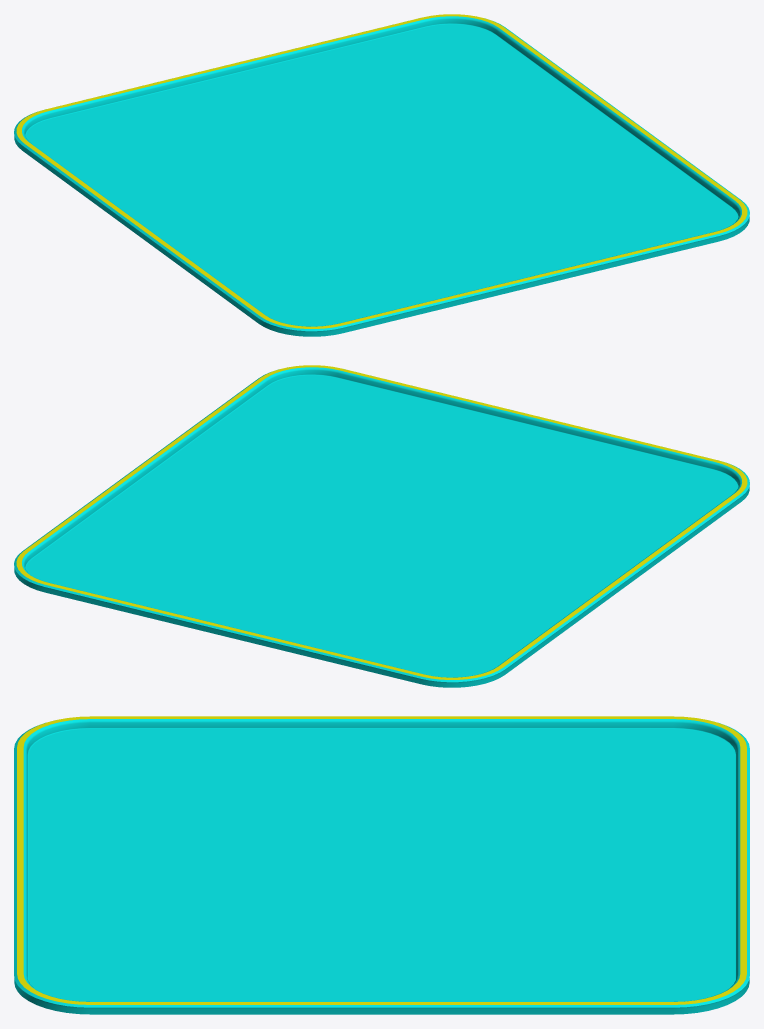
The model's file is FrameExpandable.fbx.
3 renders of one model, top to bottom at view 1: azimuth 30°, elevation 25°; view 2: azimuth 150°, elevation 25°; view 3: azimuth 270°, elevation 25°, orthographic. The views are drawn at different scales.
Parts seen in each view (by area): view 1: FrameExpandable; view 2: FrameExpandable; view 3: FrameExpandable.
Part boxes in pixels (<box>): FrameExpandable: <box>14,14,749,336</box>; FrameExpandable: <box>14,365,749,687</box>; FrameExpandable: <box>14,716,749,1014</box>.
Size of the model in its own units: 2.27 by 0.0312 by 2.42.
